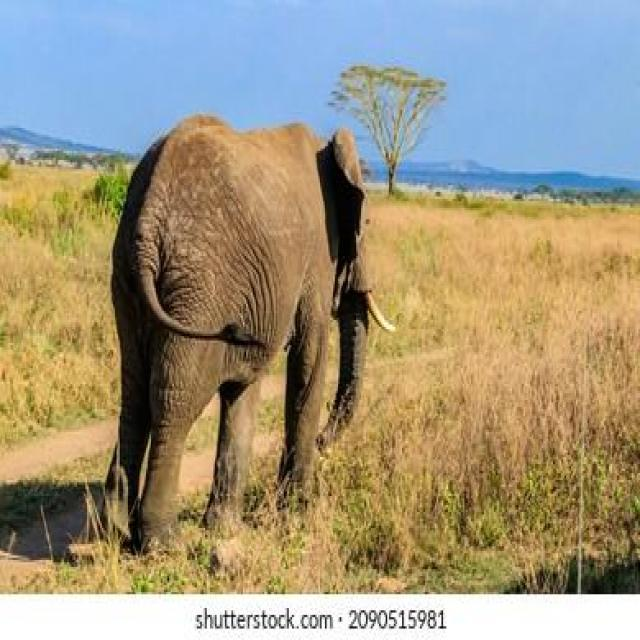Elephant: (77, 105, 401, 555), (74, 302, 79, 304)
